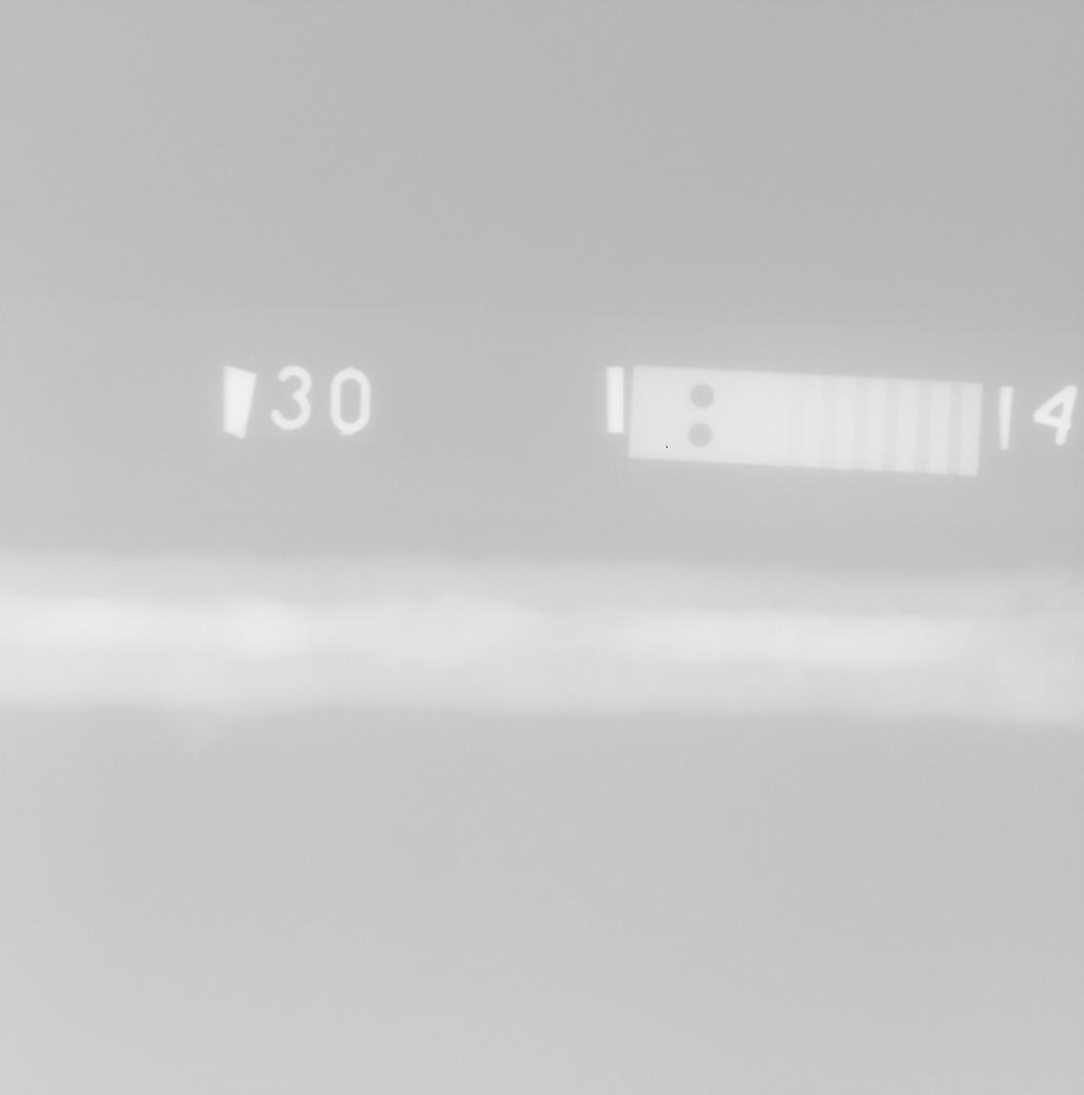Reference Standard 2: (629, 365, 982, 476)
